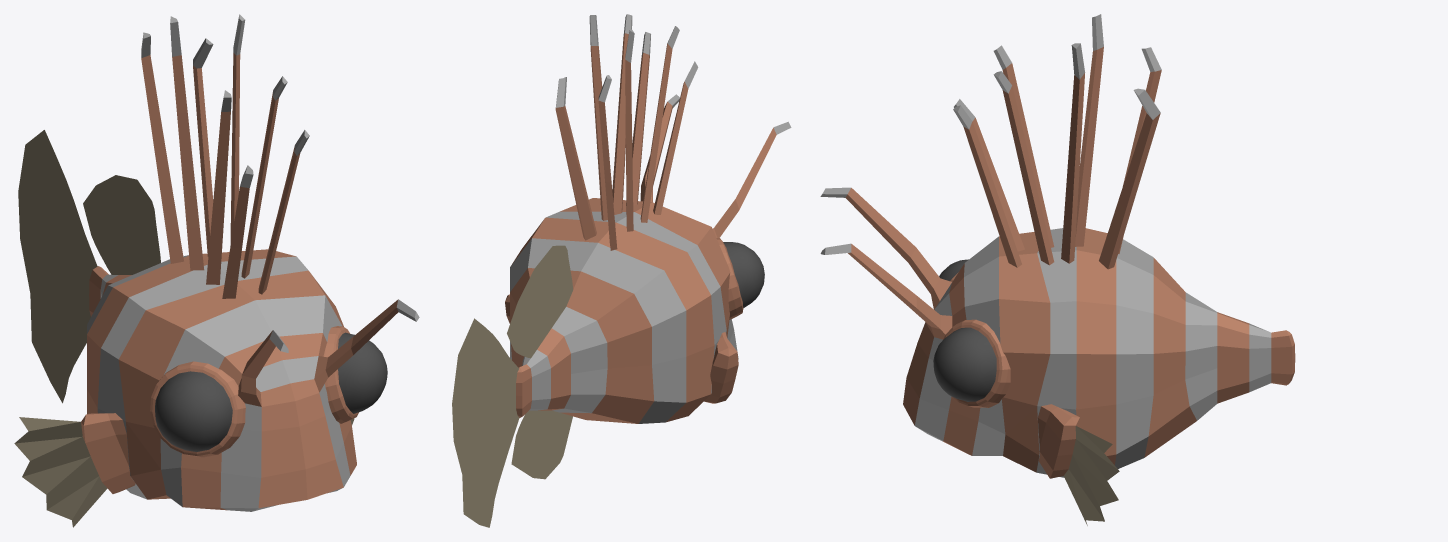
File: lionfish.glb
The picture shows the model from 3 angles, left to right: view 1: azimuth 30°, elevation 25°; view 2: azimuth 150°, elevation 25°; view 3: azimuth 270°, elevation 25°; orthographic projection. The views are drawn at different scales.
Visible parts, largest first — view 1: cutefish__Lionfish.glb; view 2: cutefish__Lionfish.glb; view 3: cutefish__Lionfish.glb.
Boxes of the visible parts, bbox=[...] form: cutefish__Lionfish.glb: bbox=[14, 14, 419, 527]; cutefish__Lionfish.glb: bbox=[452, 14, 791, 527]; cutefish__Lionfish.glb: bbox=[820, 14, 1295, 525].
Bounding box in the file's own units: 3.84 × 5.19 × 6.35.
